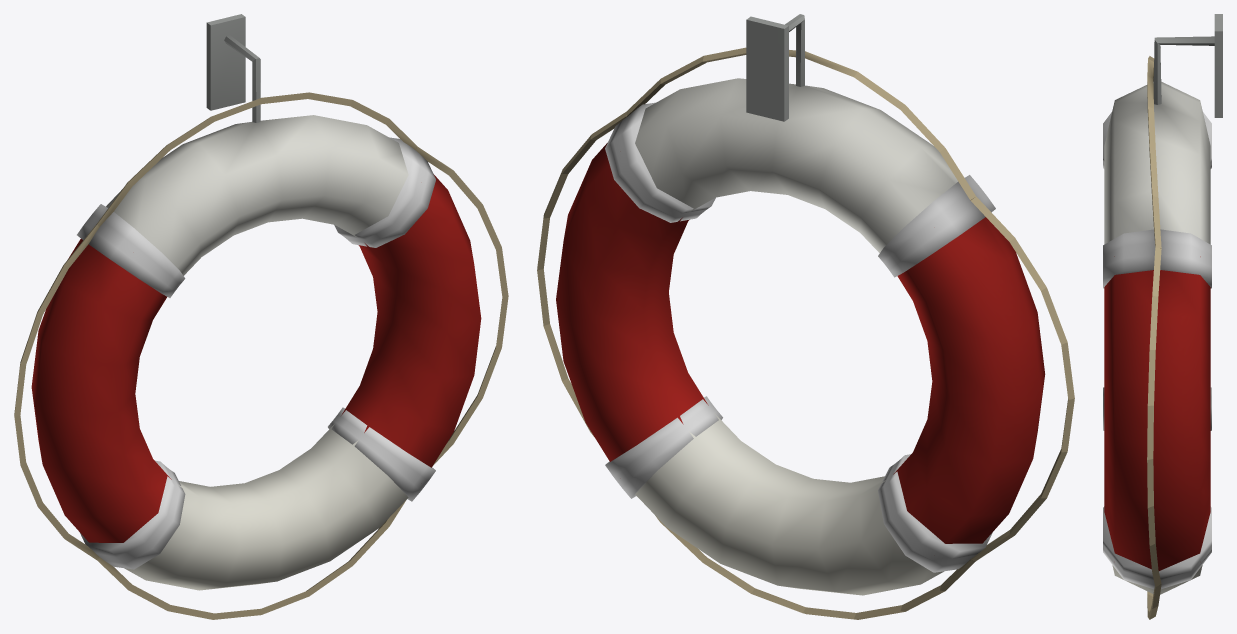
File: boat_life_ring.glb
The picture shows the model from 3 angles, left to right: view 1: azimuth 30°, elevation 25°; view 2: azimuth 150°, elevation 25°; view 3: azimuth 270°, elevation 25°; orthographic projection. The views are drawn at different scales.
Parts seen in each view (by area): view 1: boat_life_ring_LOD0, boat_life_ring_bracket_LOD0; view 2: boat_life_ring_LOD0, boat_life_ring_bracket_LOD0; view 3: boat_life_ring_LOD0, boat_life_ring_bracket_LOD0.
Boxes of the visible parts, x1,y1,x2,y2 form: boat_life_ring_LOD0: (14, 92, 508, 619); boat_life_ring_bracket_LOD0: (206, 14, 260, 122); boat_life_ring_LOD0: (537, 47, 1074, 619); boat_life_ring_bracket_LOD0: (746, 14, 804, 121); boat_life_ring_LOD0: (1103, 56, 1211, 619); boat_life_ring_bracket_LOD0: (1153, 14, 1222, 117).
Size of what is drawn, in the model's own units: 0.8483 by 0.9341 by 0.1759.
